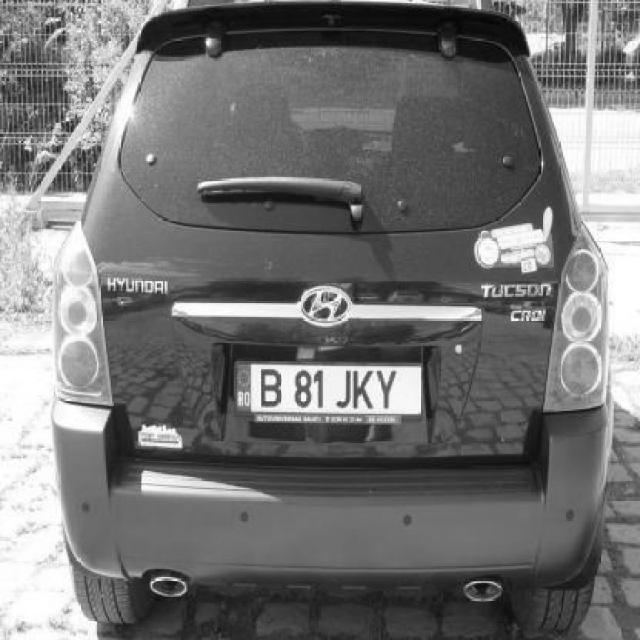car: (42, 6, 626, 640)
license-plate: (236, 349, 427, 429)
